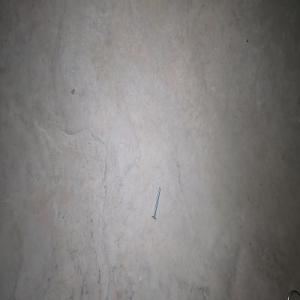Bolt: (151, 186, 160, 219)
